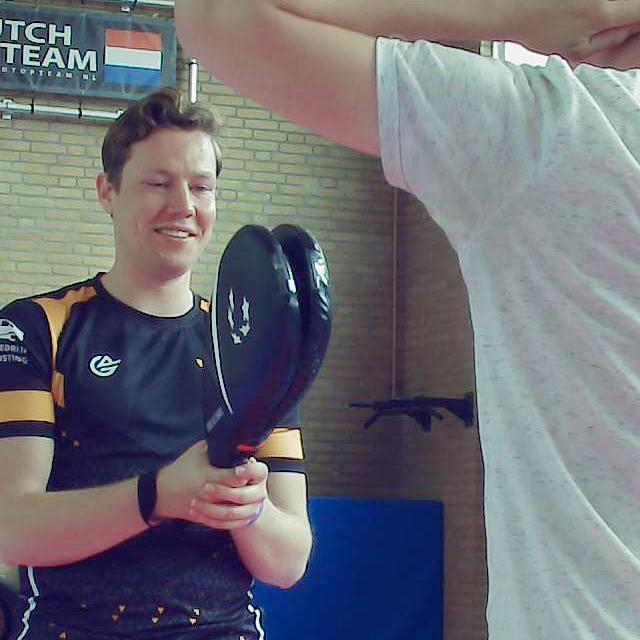paddle: (210, 223, 333, 473)
